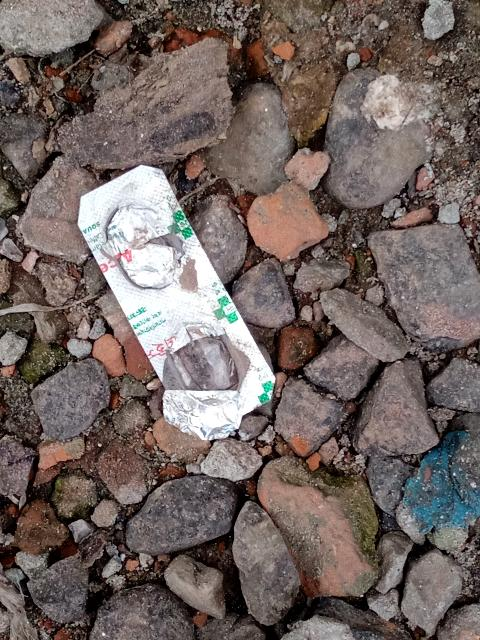medicine: (42, 144, 310, 469)
